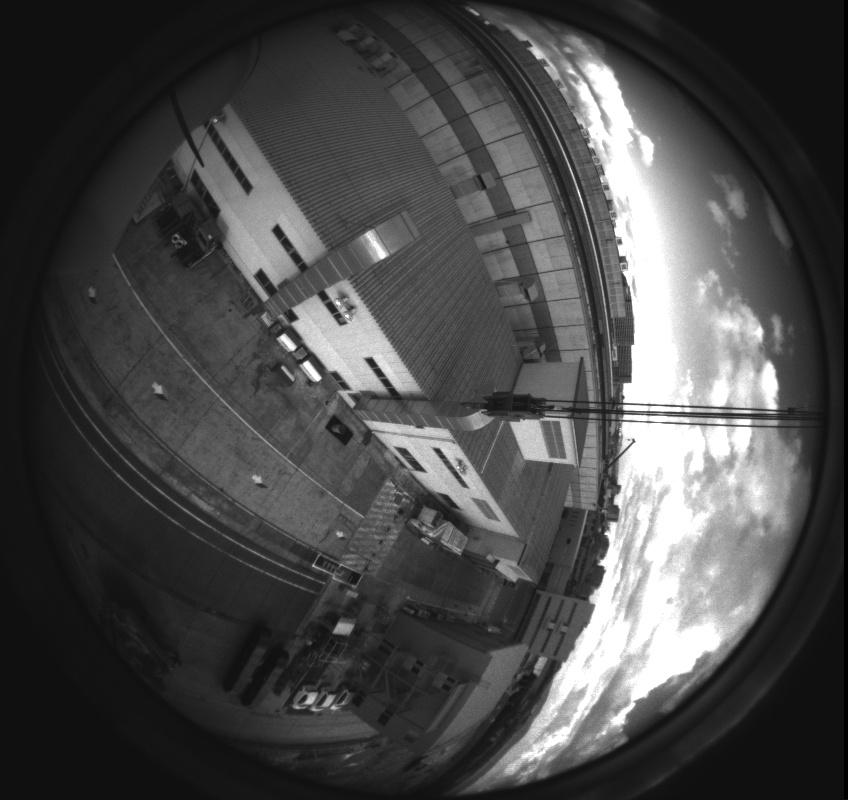rope: (440, 390, 844, 436)
